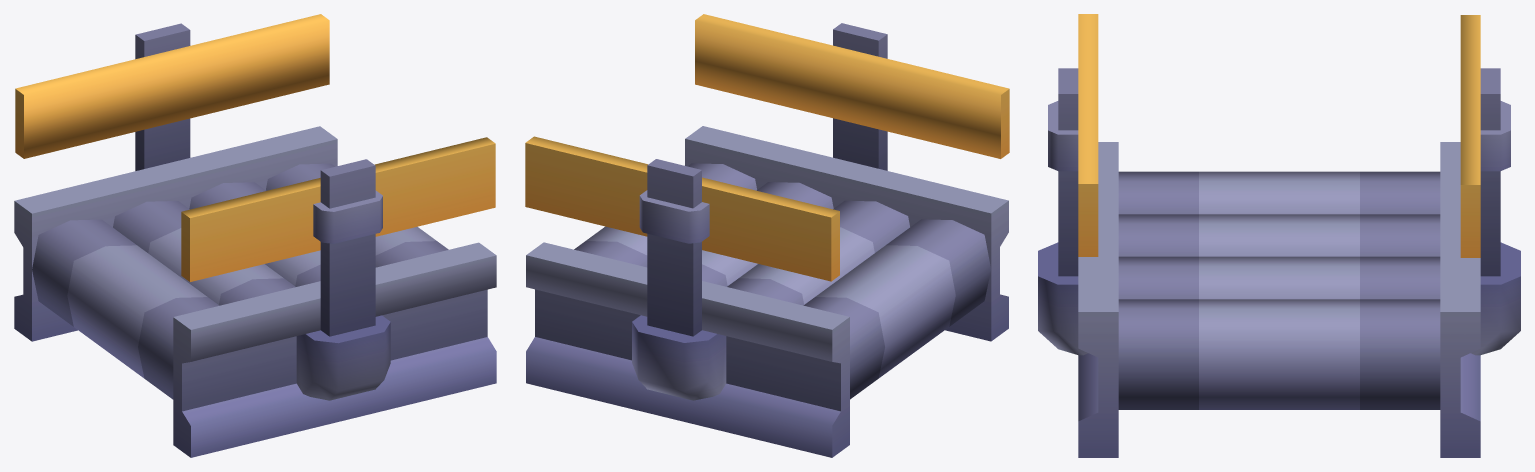
Rendered from kenney-conveyor-conveyor-bars-stripe-fence.glb.
3 renders of one model, left to right at view 1: azimuth 30°, elevation 25°; view 2: azimuth 150°, elevation 25°; view 3: azimuth 270°, elevation 25°, orthographic. The views are drawn at different scales.
Parts seen in each view (by area): view 1: conveyor-bars-stripe-fence; view 2: conveyor-bars-stripe-fence; view 3: conveyor-bars-stripe-fence.
Part boxes in pixels (x1=…): conveyor-bars-stripe-fence: x1=14, y1=14, x2=496, y2=457; conveyor-bars-stripe-fence: x1=525, y1=14, x2=1009, y2=457; conveyor-bars-stripe-fence: x1=1038, y1=14, x2=1520, y2=457.
Size of the model in its own units: 1.01 by 0.8 by 1.2.
Materials: 1 (1 with a texture image).
